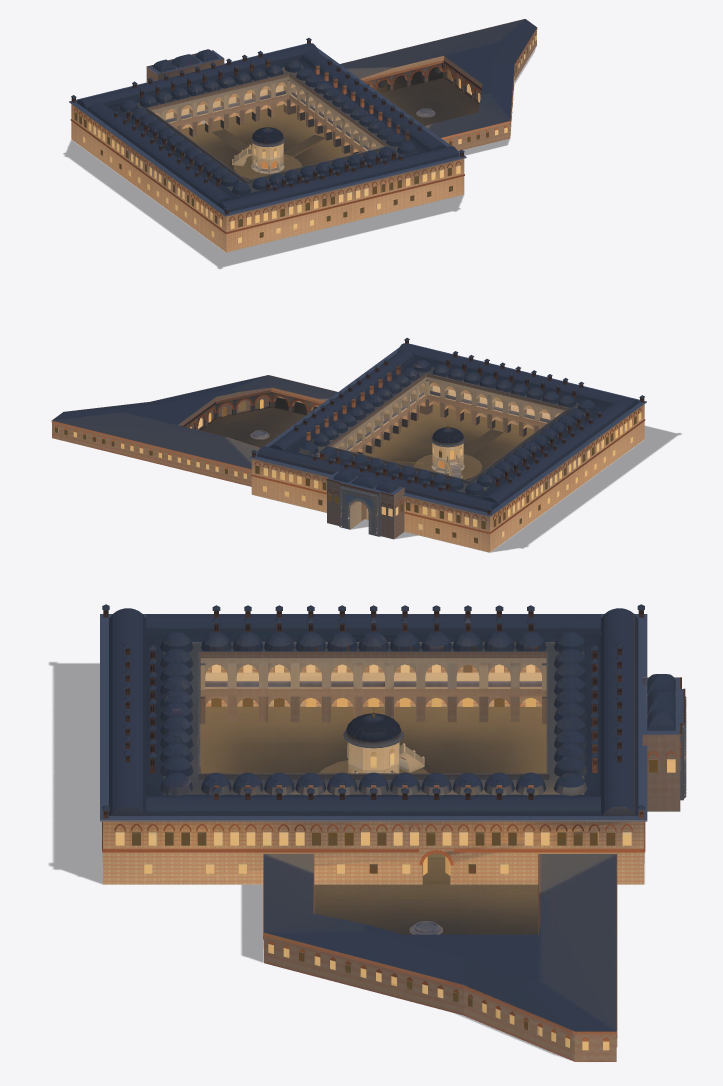
Rendered from koza-han_v18_night_harita_pisik.glb.
3 renders of one model, top to bottom at view 1: azimuth 30°, elevation 25°; view 2: azimuth 150°, elevation 25°; view 3: azimuth 270°, elevation 25°, orthographic. The views are drawn at different scales.
Parts seen in each view (by area): view 1: Cati, Govde_Dis, Ic_Koza, Avlu_Zemin, Revak_Kubbeleri, Avlu_Revak, Harita_Golge, Cephe, Mescit, Portal; view 2: Cati, Ic_Koza, Govde_Dis, Avlu_Zemin, Revak_Kubbeleri, Avlu_Revak, Cephe, Portal, Harita_Golge, Mescit; view 3: Cati, Ic_Koza, Govde_Dis, Avlu_Zemin, Avlu_Revak, Revak_Kubbeleri, Harita_Golge, Cephe, Portal, Mescit.
Part boxes in pixels (left/top/right/bottom): Cati: left=69, top=38, right=466, bottom=216; Govde_Dis: left=71, top=58, right=464, bottom=252; Ic_Koza: left=340, top=19, right=537, bottom=150; Avlu_Zemin: left=181, top=64, right=479, bottom=180; Revak_Kubbeleri: left=119, top=59, right=416, bottom=195; Avlu_Revak: left=119, top=67, right=416, bottom=195; Harita_Golge: left=63, top=48, right=535, bottom=268; Cephe: left=70, top=78, right=464, bottom=243; Mescit: left=232, top=124, right=285, bottom=173; Portal: left=146, top=49, right=224, bottom=82; Cati: left=249, top=338, right=646, bottom=516; Ic_Koza: left=51, top=375, right=337, bottom=486; Govde_Dis: left=251, top=359, right=644, bottom=552; Avlu_Zemin: left=199, top=397, right=534, bottom=480; Revak_Kubbeleri: left=299, top=359, right=596, bottom=495; Avlu_Revak: left=299, top=367, right=596, bottom=495; Cephe: left=251, top=408, right=645, bottom=543; Portal: left=326, top=470, right=404, bottom=539; Harita_Golge: left=351, top=426, right=681, bottom=552; Mescit: left=431, top=424, right=465, bottom=478; Cati: left=100, top=604, right=647, bottom=821; Ic_Koza: left=263, top=854, right=617, bottom=1061; Govde_Dis: left=103, top=635, right=644, bottom=884; Avlu_Zemin: left=200, top=706, right=546, bottom=934; Avlu_Revak: left=163, top=642, right=584, bottom=794; Revak_Kubbeleri: left=160, top=631, right=587, bottom=795; Harita_Golge: left=49, top=662, right=565, bottom=1058; Cephe: left=102, top=742, right=681, bottom=873; Portal: left=642, top=674, right=686, bottom=811; Mescit: left=343, top=708, right=424, bottom=773.
Size of the model in its own units: 133 by 13.15 by 92.45.
2 materials, 2 textured.
